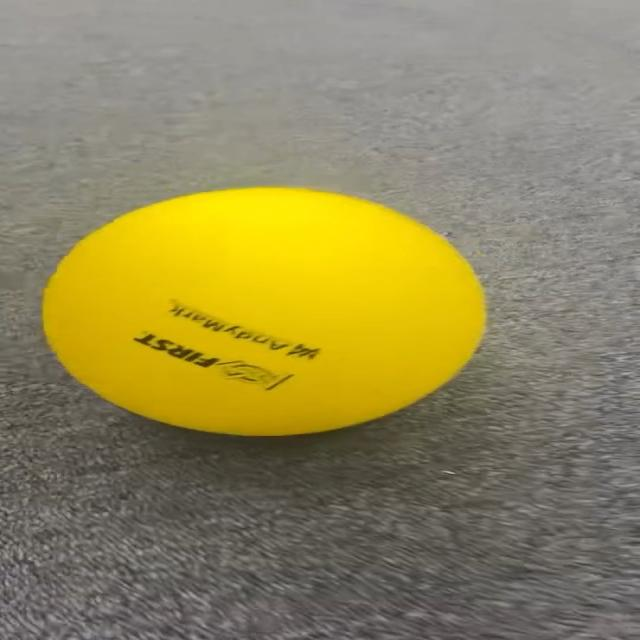Fuels: (44, 189, 487, 432)
